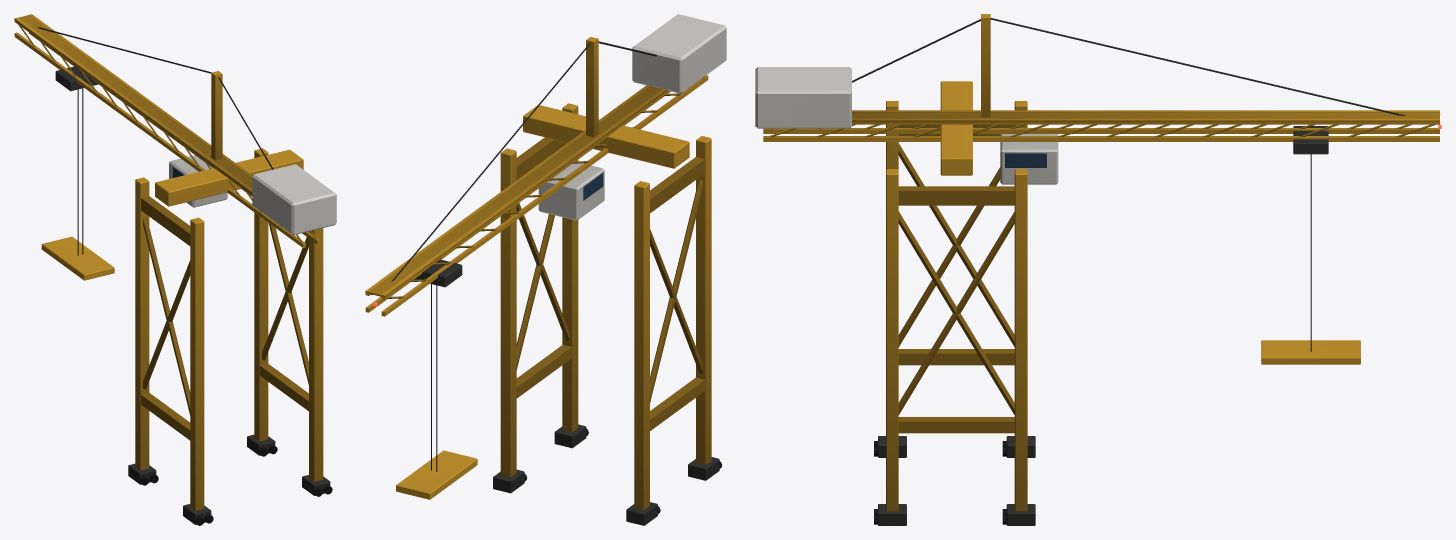
File: mi_crane-CdLCiumH.glb
3 views of the same model, side by side, from view 1: azimuth 30°, elevation 25°; view 2: azimuth 150°, elevation 25°; view 3: azimuth 270°, elevation 25° (orthographic). The views are drawn at different scales.
Bounding box in the file's own units: 11.44 × 32.3 × 42.6.
